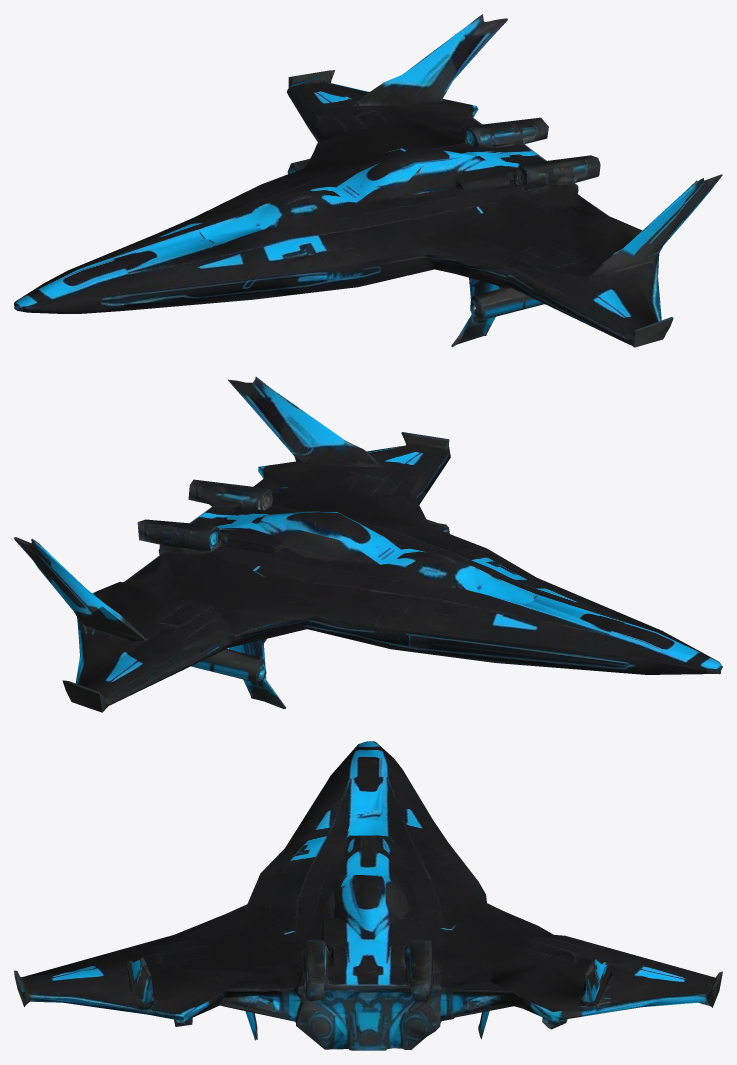
File: draino.glb
3 views of the same model, one above another, from view 1: azimuth 30°, elevation 25°; view 2: azimuth 150°, elevation 25°; view 3: azimuth 270°, elevation 25° (orthographic). The views are drawn at different scales.
Parts seen in each view (by area): view 1: Mesh0; view 2: Mesh0; view 3: Mesh0.
Part boxes in pixels (<box>): Mesh0: <box>14,14,722,347</box>; Mesh0: <box>14,376,722,712</box>; Mesh0: <box>14,741,722,1050</box>.
Size of the model in its own units: 1.9 by 0.4962 by 1.91.
1 material, 1 textured.
